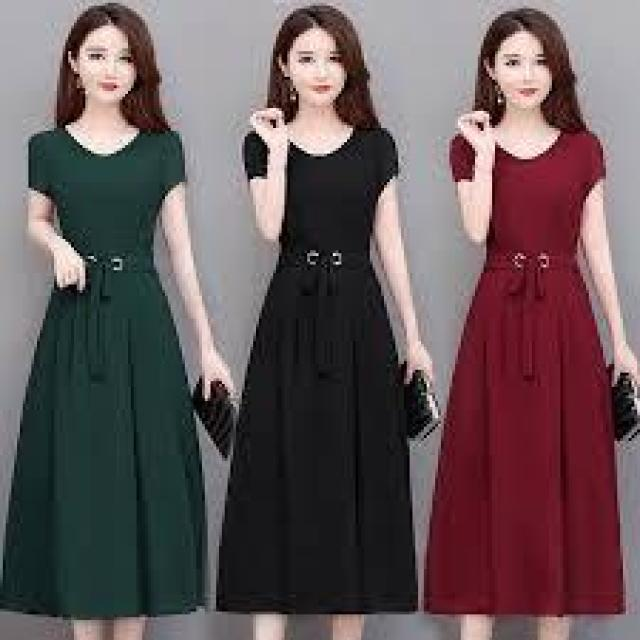dress: (206, 111, 434, 634), (432, 112, 640, 636), (7, 124, 215, 627)
